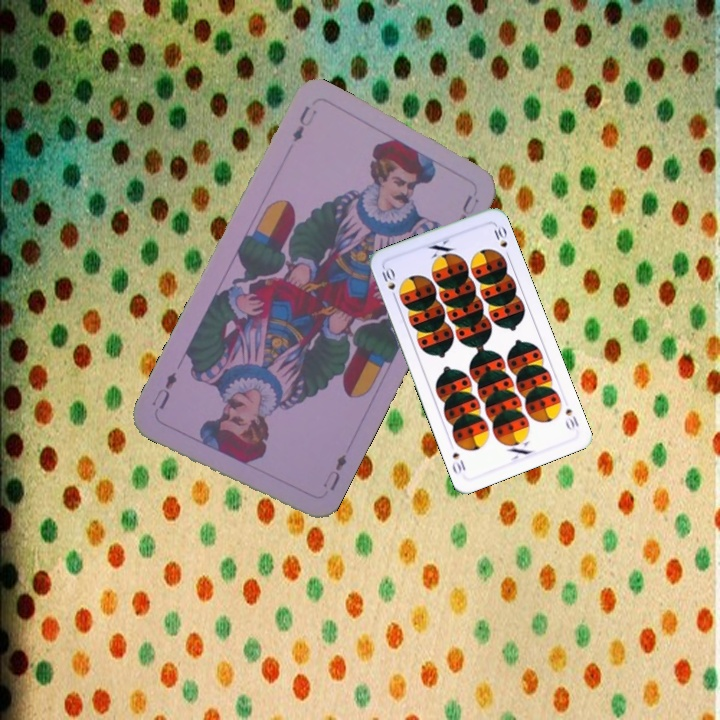EU: (288, 101, 320, 145), (319, 450, 350, 493)
S10: (378, 263, 399, 303), (561, 405, 581, 433)
